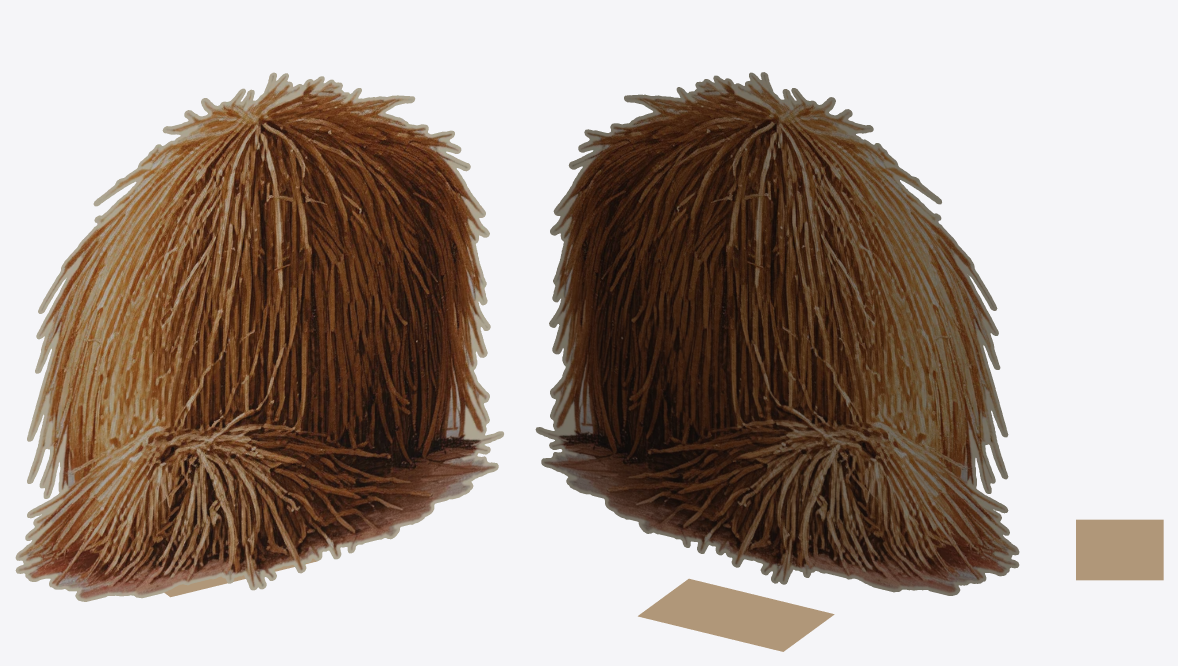
Rendered from toad-prop-haystack.glb.
3 views of the same model, side by side, from view 1: azimuth 30°, elevation 25°; view 2: azimuth 150°, elevation 25°; view 3: azimuth 270°, elevation 25° (orthographic). The views are drawn at different scales.
Parts seen in each view (by area): view 1: haystack; view 2: haystack; view 3: haystack.
Part boxes in pixels (x1=…): haystack: x1=15, y1=72, x2=503, y2=601; haystack: x1=535, y1=72, x2=1019, y2=651; haystack: x1=1076, y1=519, x2=1163, y2=580.
Size of the model in its own units: 0.18 by 0.1812 by 0.043.
Materials: 3 (2 with a texture image).
